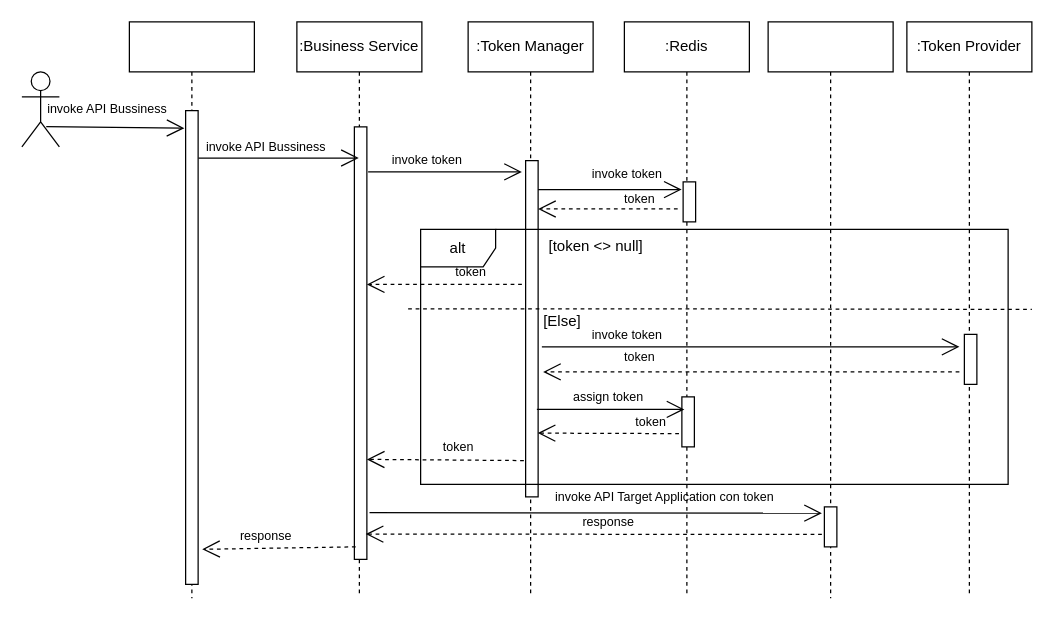
This 1055x620 diagram has some shape labels left out. The shapes that lost their labels are listed below. From the top down, each one's box as (x1, y1, x2, y2) in pixels, then its label:
(21, 71, 59, 147): Actor
(128, 21, 254, 598): :APIGW
(767, 21, 893, 598): :Target Application
